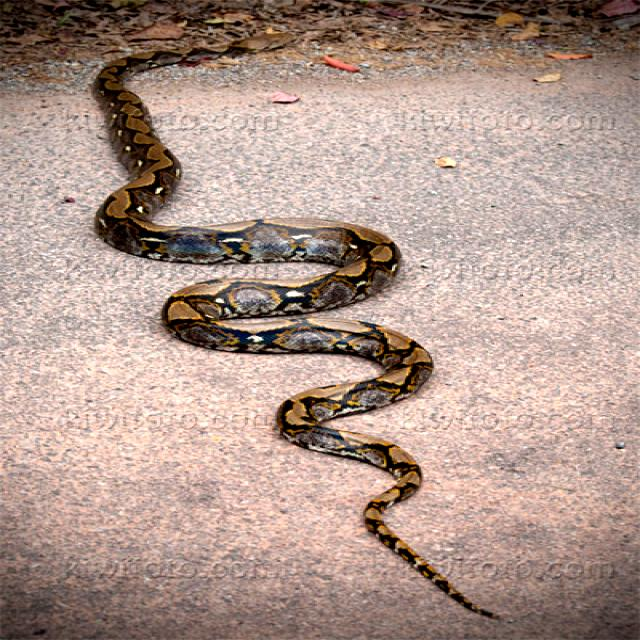Malayopython reticulatus: (95, 43, 495, 617)
snake: (95, 43, 495, 617)
